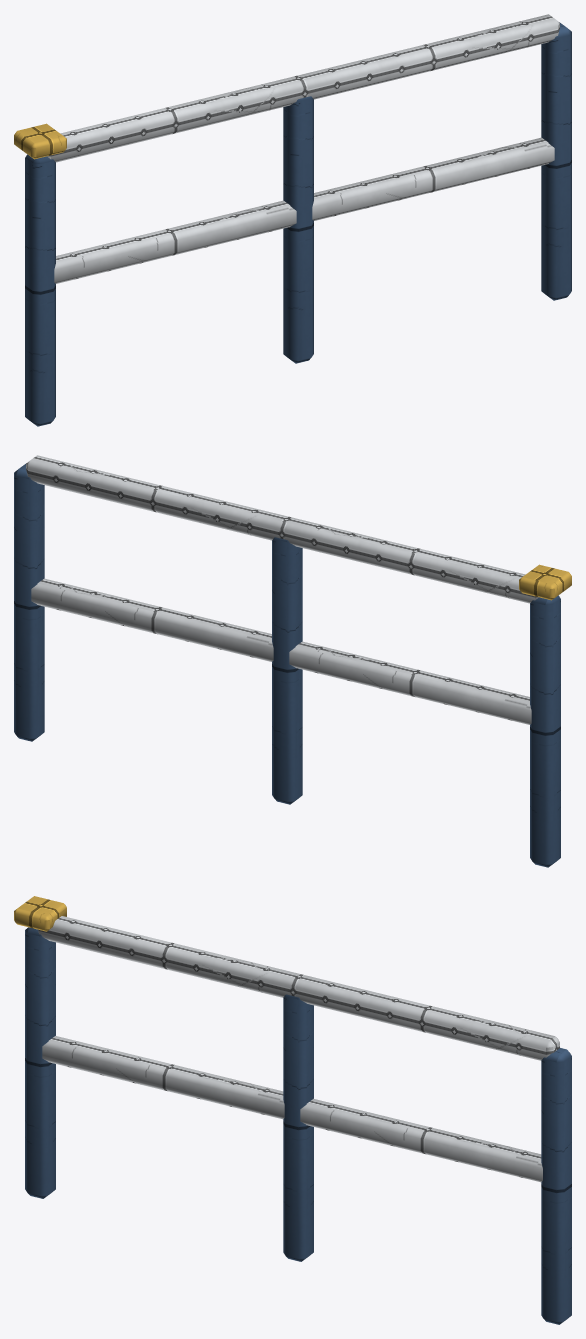
The model's file is railing_short.glb.
3 views of the same model, one above another, from view 1: azimuth 30°, elevation 25°; view 2: azimuth 150°, elevation 25°; view 3: azimuth 330°, elevation 25° (orthographic).
Visible parts, largest first — view 1: railing_short_hull_offwhite, railing_short_navy_frame, railing_short_amber_accent; view 2: railing_short_hull_offwhite, railing_short_navy_frame, railing_short_amber_accent; view 3: railing_short_hull_offwhite, railing_short_navy_frame, railing_short_amber_accent.
Boxes of the visible parts, bbox=[...] form: railing_short_hull_offwhite: bbox=[47, 14, 559, 283]; railing_short_navy_frame: bbox=[25, 22, 571, 426]; railing_short_amber_accent: bbox=[14, 123, 66, 159]; railing_short_hull_offwhite: bbox=[26, 455, 538, 724]; railing_short_navy_frame: bbox=[14, 463, 560, 867]; railing_short_amber_accent: bbox=[519, 564, 571, 600]; railing_short_hull_offwhite: bbox=[38, 916, 559, 1182]; railing_short_navy_frame: bbox=[25, 927, 571, 1324]; railing_short_amber_accent: bbox=[14, 896, 66, 931].
Bounding box in the file's own units: 2.12 × 1.07 × 0.14.
Materials: 3 (3 with a texture image).
